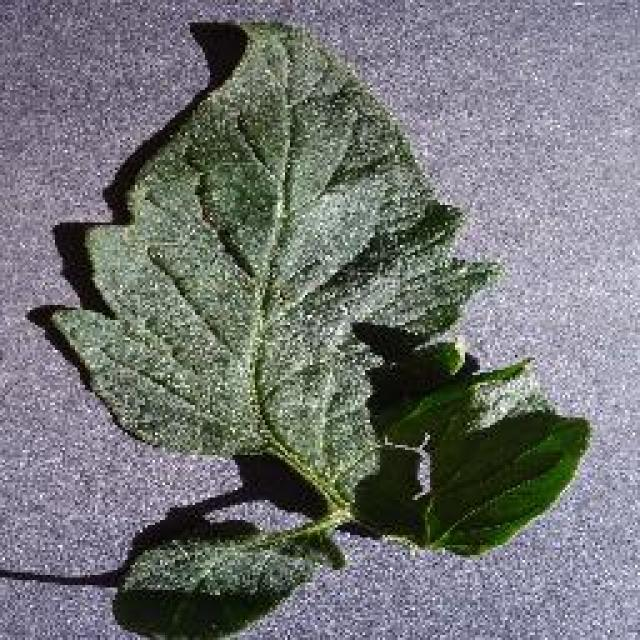healthy: (49, 20, 600, 633)
